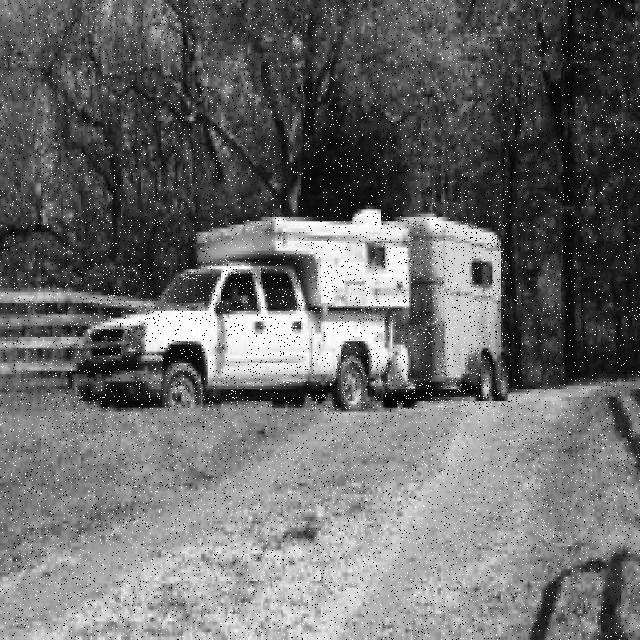Pickup: (76, 262, 396, 411)
Trailer: (374, 217, 510, 408)
